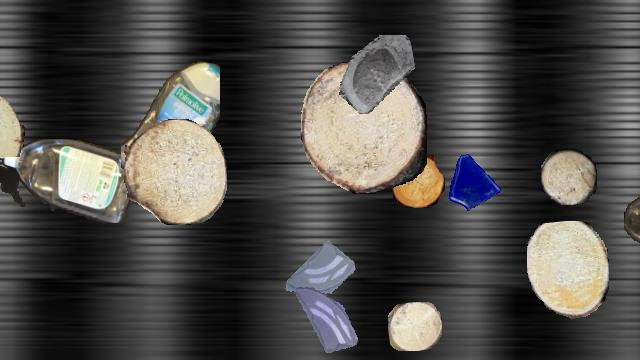glass: (337, 35, 415, 113), (288, 285, 362, 359), (283, 238, 355, 310), (443, 151, 503, 211)
plastic: (121, 57, 219, 191), (0, 139, 138, 223), (624, 195, 640, 249)
wood: (301, 61, 427, 193), (124, 119, 226, 225), (527, 221, 609, 319), (541, 149, 597, 205), (392, 155, 444, 207), (388, 302, 442, 350), (0, 88, 24, 156)
